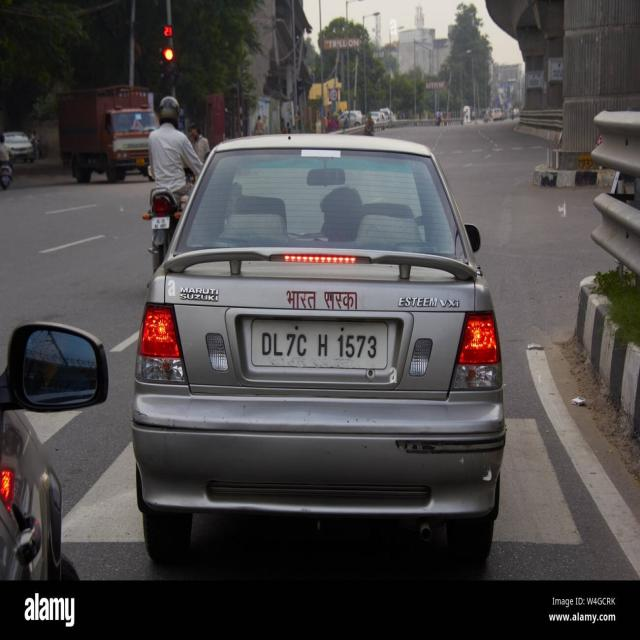car: (132, 134, 506, 563)
truck: (59, 85, 159, 182)
